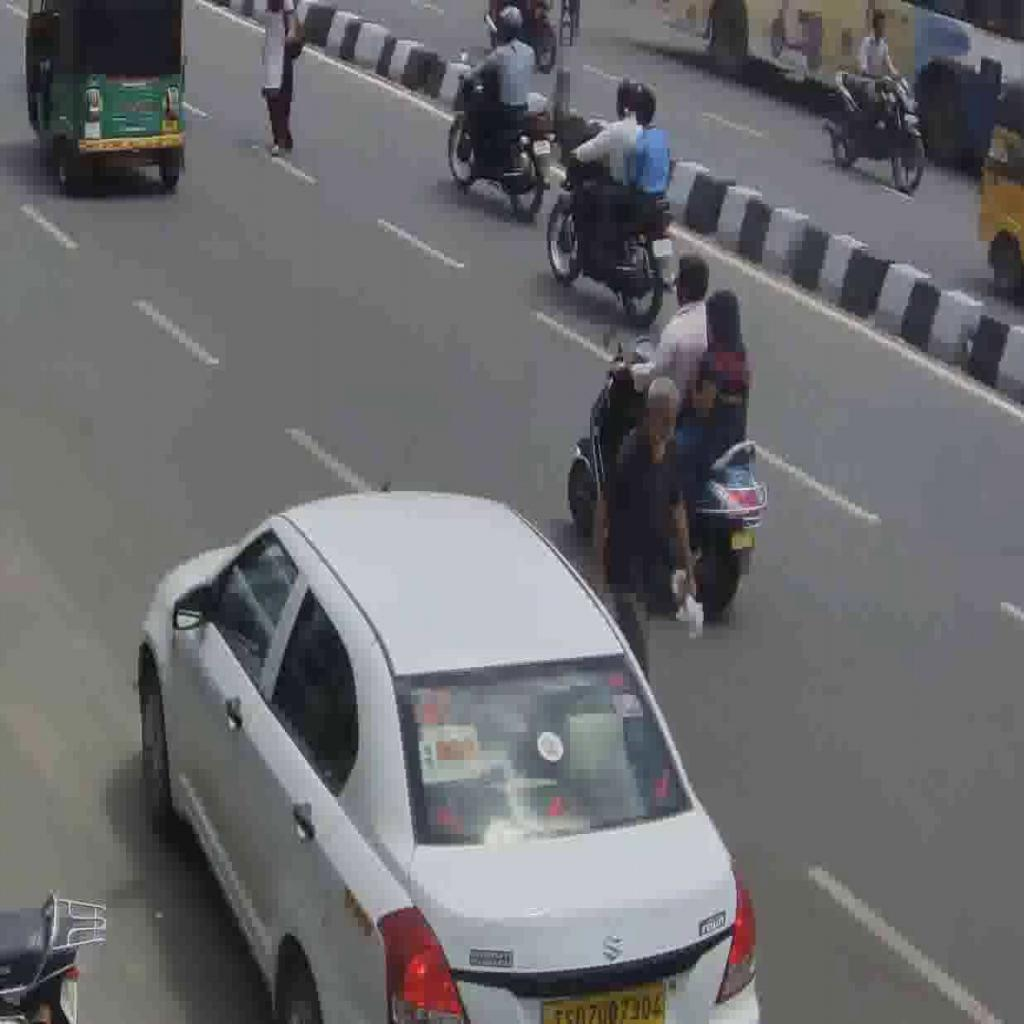helmet: (566, 332, 770, 620), (545, 117, 677, 327), (447, 59, 556, 223)
